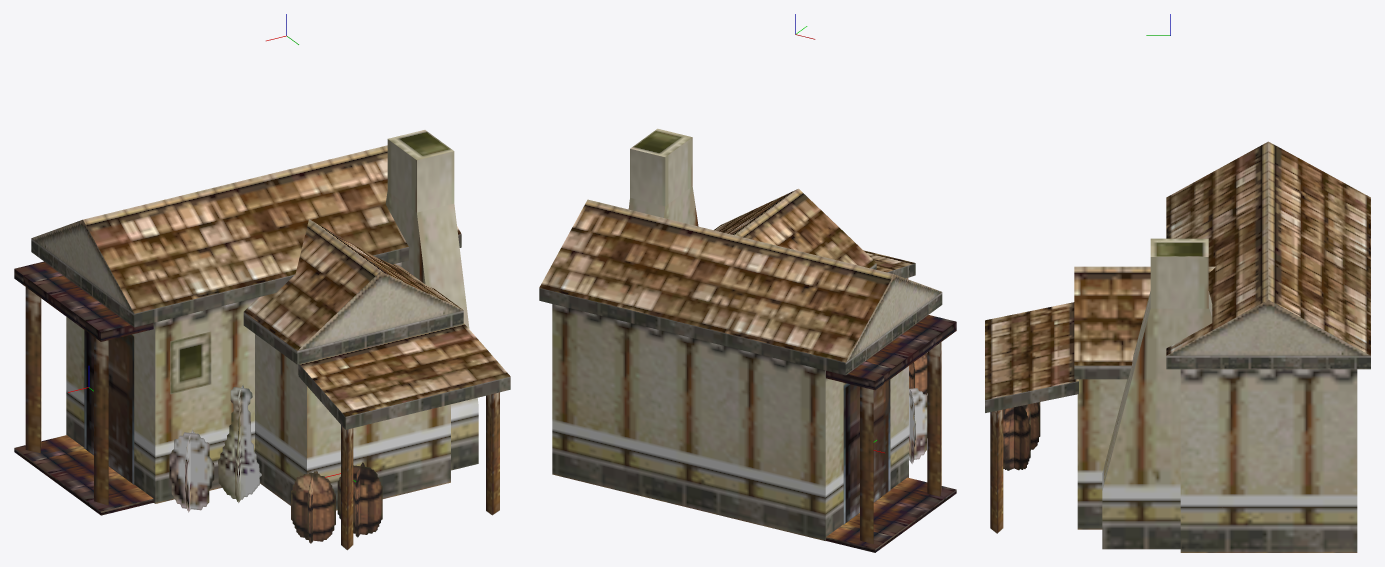
File: greek-house-a-age0.glb
3 views of the same model, side by side, from view 1: azimuth 30°, elevation 25°; view 2: azimuth 150°, elevation 25°; view 3: azimuth 270°, elevation 25° (orthographic). The views are drawn at different scales.
Parts seen in each view (by area): view 1: building g housea age0Model; view 2: building g housea age0Model; view 3: building g housea age0Model.
Boxes of the visible parts, bbox=[...] form: building g housea age0Model: bbox=[14, 130, 510, 550]; building g housea age0Model: bbox=[539, 128, 956, 552]; building g housea age0Model: bbox=[985, 141, 1370, 552].
Size of the model in its own units: 4.17 by 5.25 by 4.
4 materials, 3 textured.
